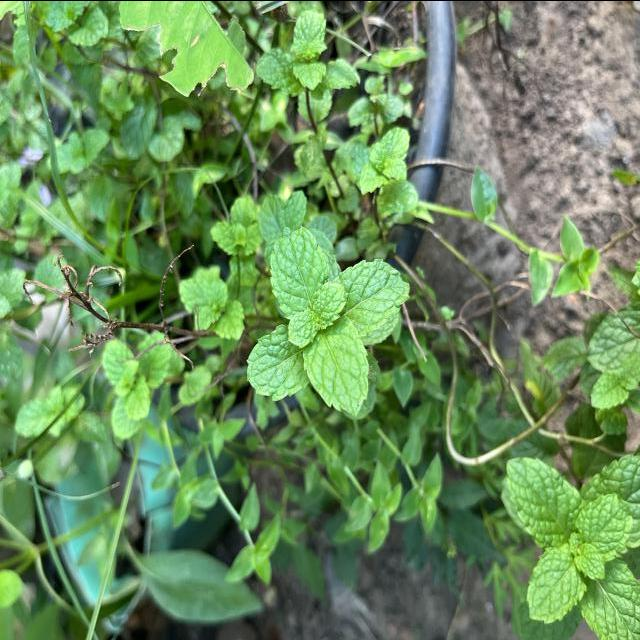Mentha spicata: (302, 313, 370, 419), (332, 258, 410, 336), (268, 224, 330, 318), (246, 323, 309, 401)
